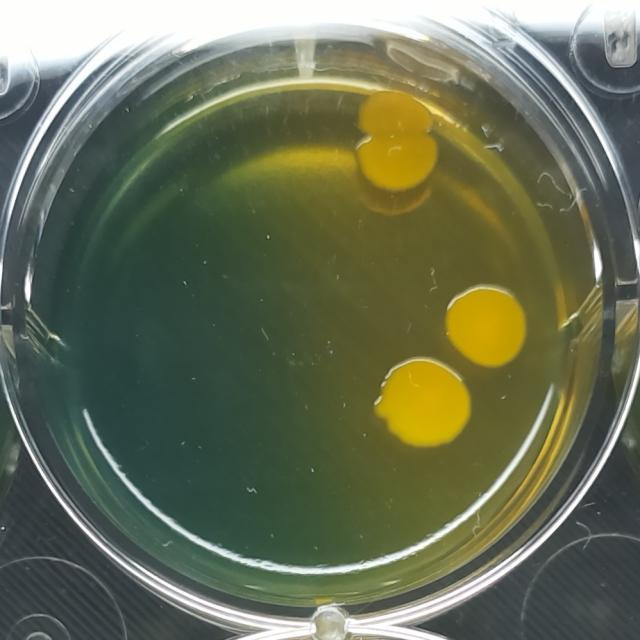vibrio: (351, 82, 442, 202), (367, 353, 476, 453), (443, 275, 530, 372)
